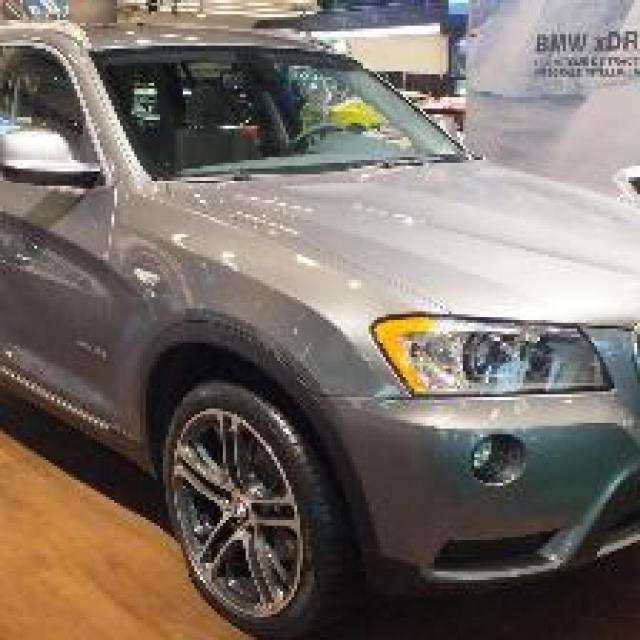damaged: (111, 242, 200, 328)
